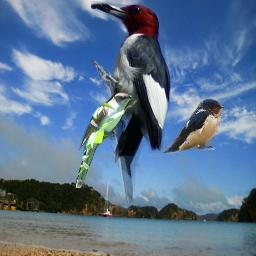Cuckoo: (75, 92, 138, 188)
Swallow: (162, 98, 225, 154)
Woodpecker: (91, 1, 171, 203)
